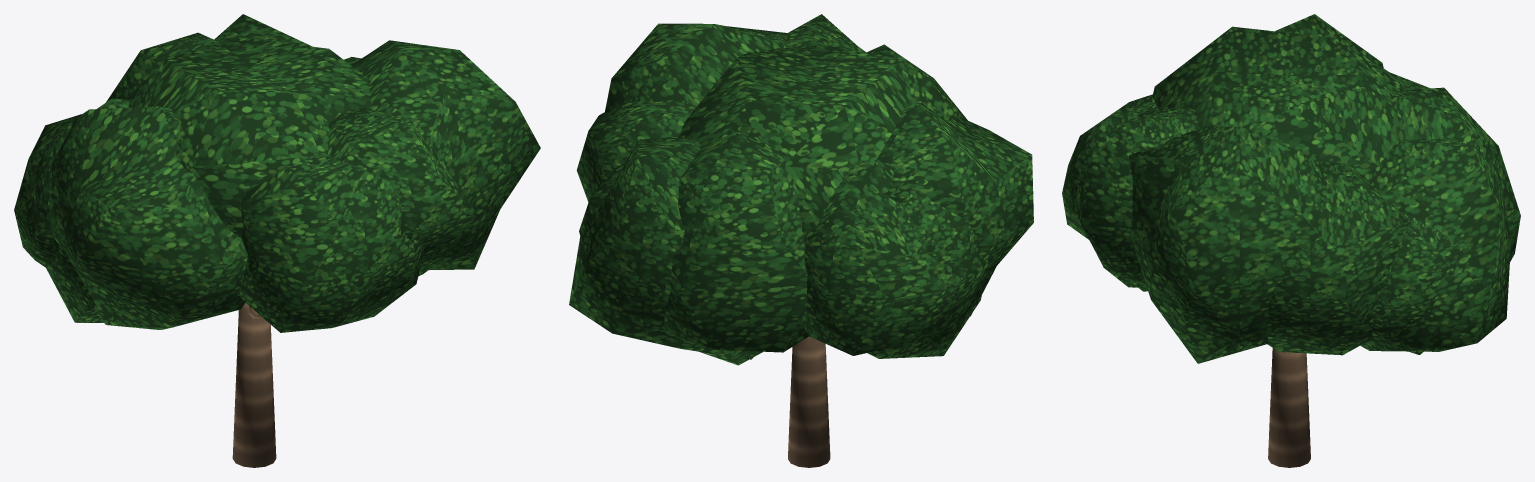
The model's file is Tree_Mango.fbx.
The picture shows the model from 3 angles, left to right: view 1: azimuth 30°, elevation 25°; view 2: azimuth 150°, elevation 25°; view 3: azimuth 270°, elevation 25°; orthographic projection. The views are drawn at different scales.
Visible parts, largest first — view 1: Tree_Mango; view 2: Tree_Mango; view 3: Tree_Mango.
Boxes of the visible parts, bbox=[...] form: Tree_Mango: bbox=[14, 14, 540, 467]; Tree_Mango: bbox=[569, 14, 1033, 467]; Tree_Mango: bbox=[1062, 14, 1520, 467].
Size of the model in its own units: 8.89 by 7.77 by 8.11.
